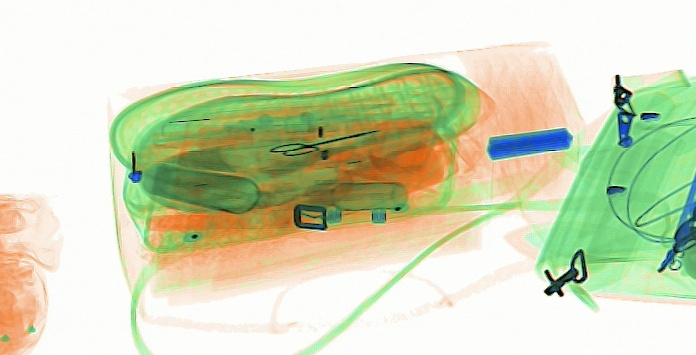scissors: (266, 128, 385, 157)
